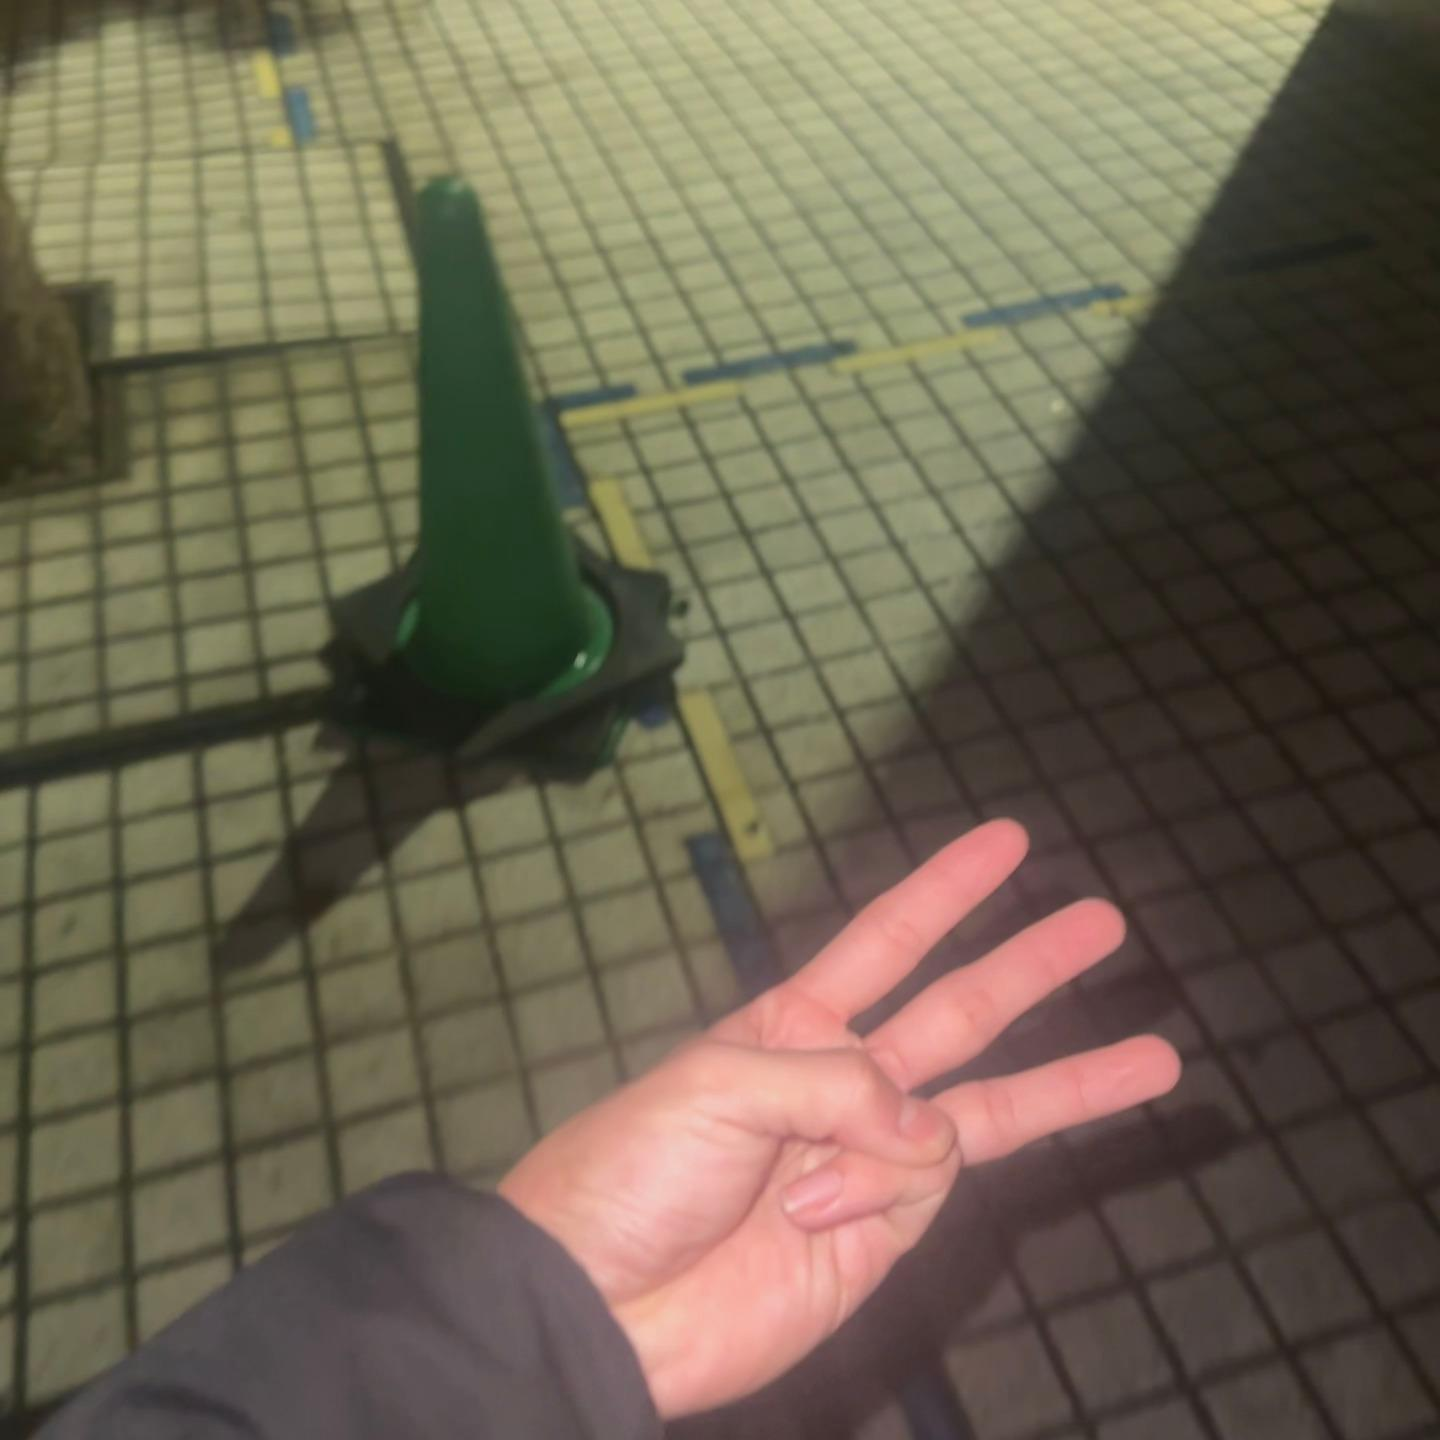without_gloves: (414, 582, 1320, 1432)
